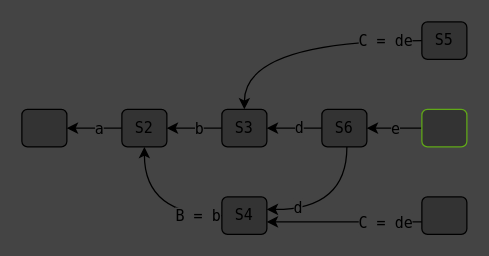
This 489x256 diagram has some shape labels left out. The centre of each missing label's shape, as x and y in pixels:
S0: the point at 44,127
S7: the point at 444,215
S8: the point at 444,127
